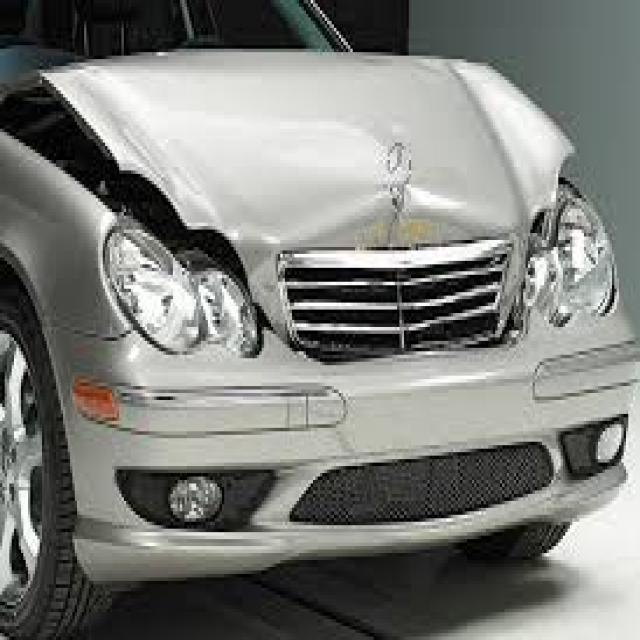minor: (0, 52, 283, 358), (497, 54, 609, 358)
